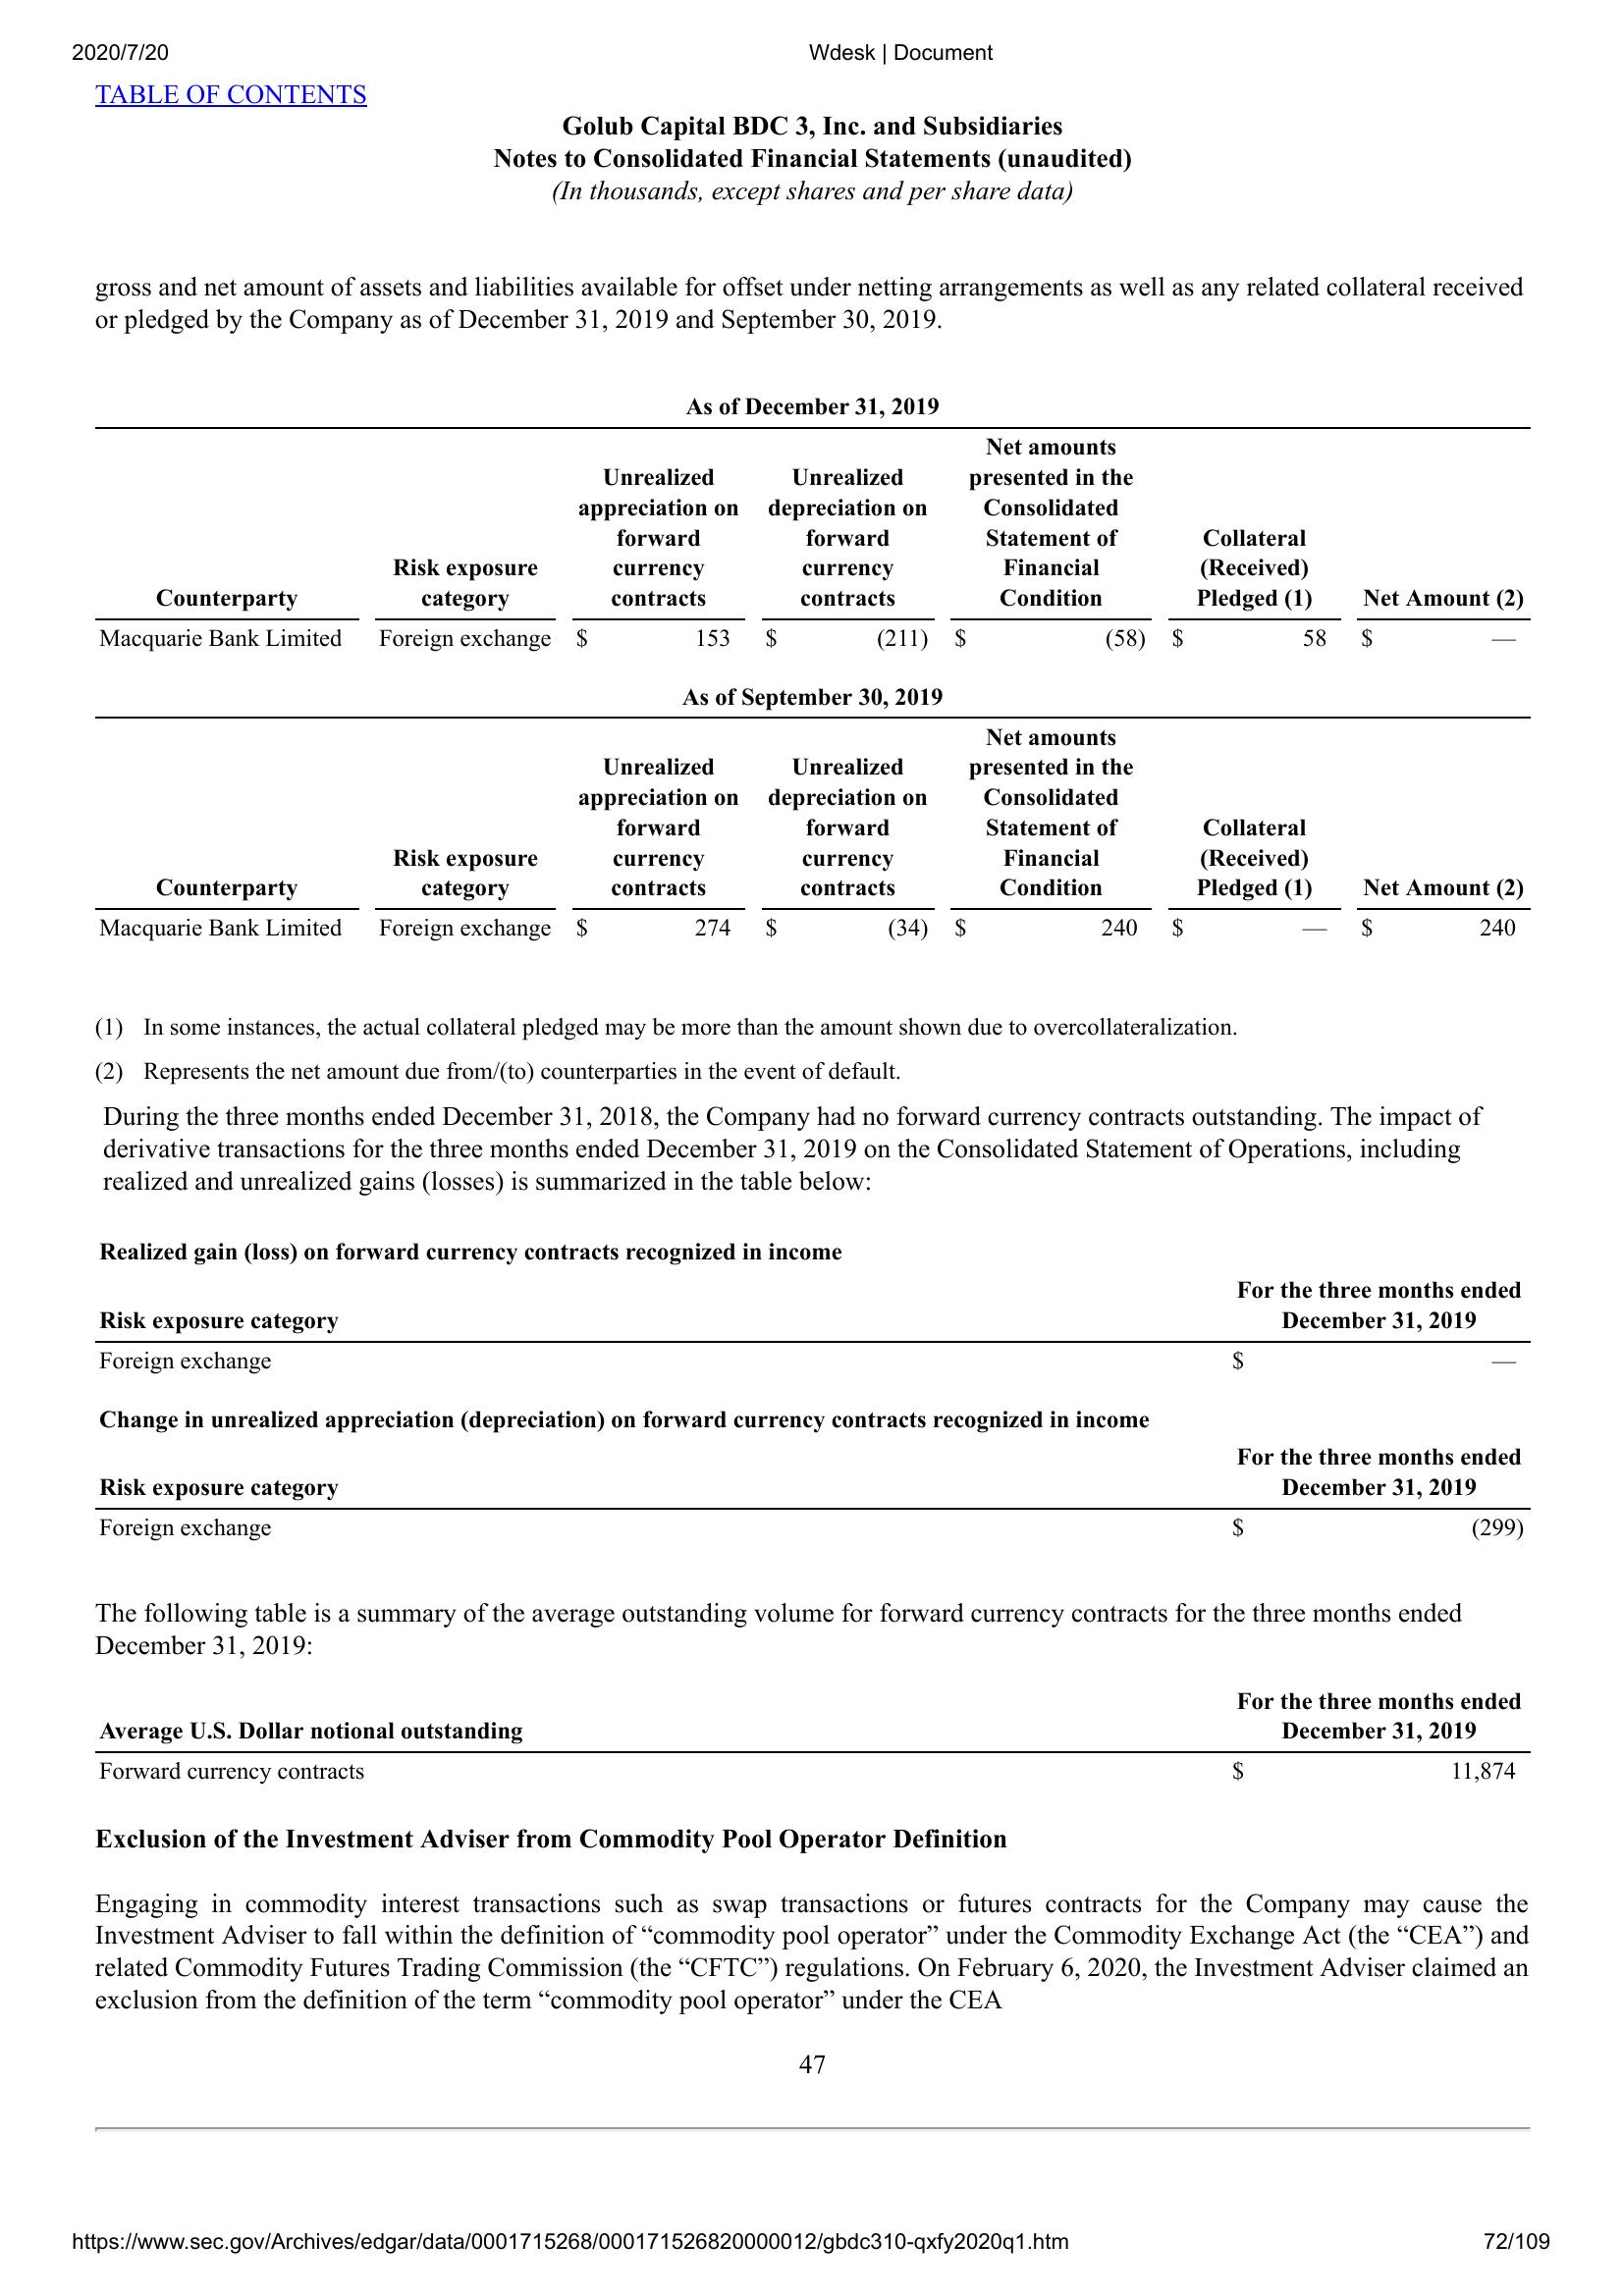table: (70, 369, 1546, 955)
